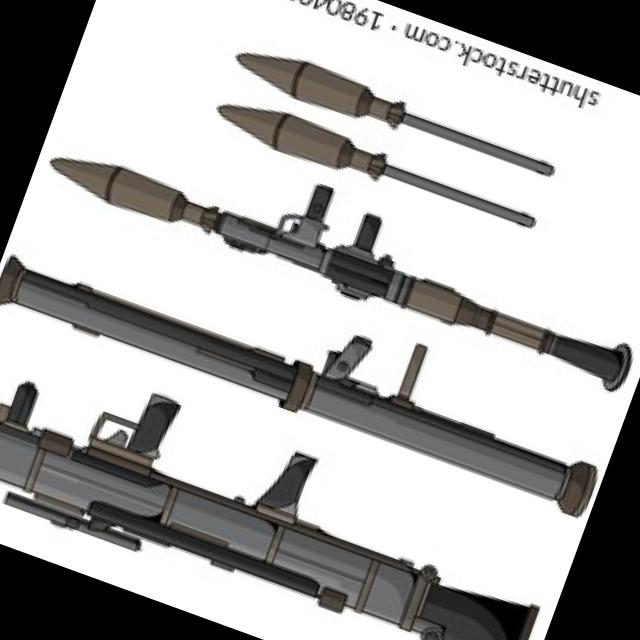Weapon: (0, 194, 622, 531), (34, 100, 640, 409), (0, 321, 574, 640)
